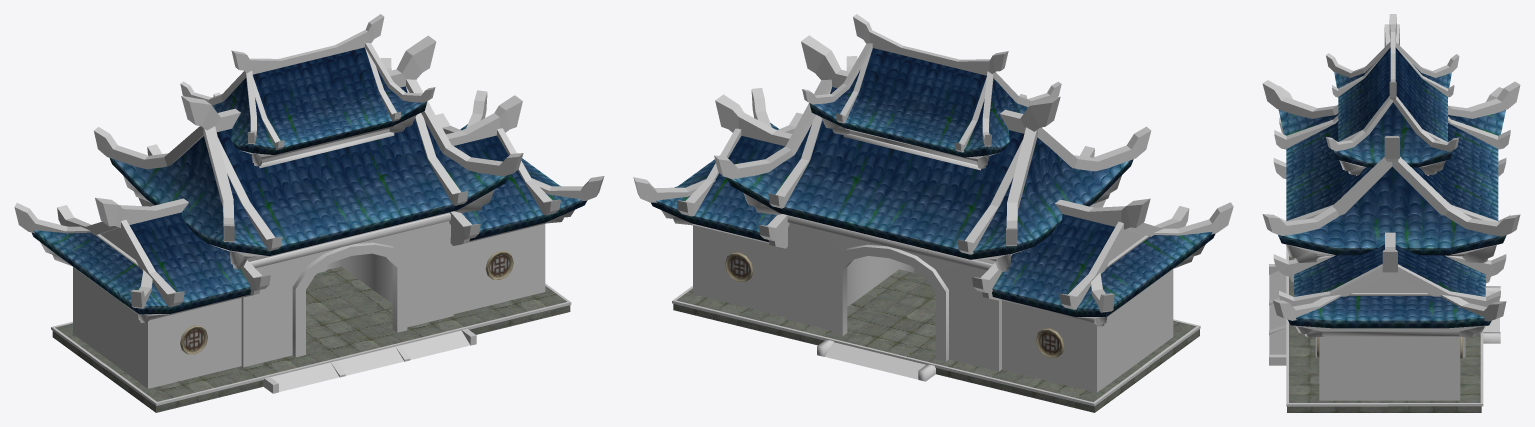
The model's file is environment_Building_luoxiaguan_001_f.FBX.
The picture shows the model from 3 angles, left to right: view 1: azimuth 30°, elevation 25°; view 2: azimuth 150°, elevation 25°; view 3: azimuth 270°, elevation 25°; orthographic projection. The views are drawn at different scales.
Parts seen in each view (by area): view 1: environment_Building_luoxiaguan_001_f01, environment_Building_luoxiaguan_001_f02, environment_Building_luoxiaguan_001_f03, environment_Building_luoxiaguan_001_f09, environment_Building_luoxiaguan_001_f08, environment_Building_luoxiaguan_001_f06, environment_Building_luoxiaguan_001_f10, environment_Building_luoxiaguan_001_f07, environment_Building_luoxiaguan_001_f04; view 2: environment_Building_luoxiaguan_001_f01, environment_Building_luoxiaguan_001_f02, environment_Building_luoxiaguan_001_f03, environment_Building_luoxiaguan_001_f09, environment_Building_luoxiaguan_001_f08, environment_Building_luoxiaguan_001_f06, environment_Building_luoxiaguan_001_f10, environment_Building_luoxiaguan_001_f07, environment_Building_luoxiaguan_001_f04; view 3: environment_Building_luoxiaguan_001_f01, environment_Building_luoxiaguan_001_f02, environment_Building_luoxiaguan_001_f03, environment_Building_luoxiaguan_001_f09, environment_Building_luoxiaguan_001_f08, environment_Building_luoxiaguan_001_f10, environment_Building_luoxiaguan_001_f05.
Part boxes in pixels (bbox=[...]): environment_Building_luoxiaguan_001_f01: bbox=[32, 47, 587, 314]; environment_Building_luoxiaguan_001_f02: bbox=[14, 14, 604, 405]; environment_Building_luoxiaguan_001_f03: bbox=[73, 221, 545, 388]; environment_Building_luoxiaguan_001_f09: bbox=[52, 266, 570, 412]; environment_Building_luoxiaguan_001_f08: bbox=[40, 115, 574, 323]; environment_Building_luoxiaguan_001_f06: bbox=[292, 242, 407, 357]; environment_Building_luoxiaguan_001_f10: bbox=[270, 330, 470, 391]; environment_Building_luoxiaguan_001_f07: bbox=[180, 251, 513, 354]; environment_Building_luoxiaguan_001_f04: bbox=[184, 255, 509, 350]; environment_Building_luoxiaguan_001_f01: bbox=[651, 48, 1215, 316]; environment_Building_luoxiaguan_001_f02: bbox=[633, 14, 1233, 406]; environment_Building_luoxiaguan_001_f03: bbox=[693, 222, 1173, 392]; environment_Building_luoxiaguan_001_f09: bbox=[673, 269, 1199, 412]; environment_Building_luoxiaguan_001_f08: bbox=[661, 117, 1205, 326]; environment_Building_luoxiaguan_001_f06: bbox=[832, 244, 948, 361]; environment_Building_luoxiaguan_001_f10: bbox=[825, 342, 925, 379]; environment_Building_luoxiaguan_001_f07: bbox=[725, 252, 1064, 357]; environment_Building_luoxiaguan_001_f04: bbox=[729, 256, 1060, 353]; environment_Building_luoxiaguan_001_f01: bbox=[1278, 47, 1506, 328]; environment_Building_luoxiaguan_001_f02: bbox=[1262, 14, 1520, 406]; environment_Building_luoxiaguan_001_f03: bbox=[1315, 336, 1465, 400]; environment_Building_luoxiaguan_001_f09: bbox=[1287, 255, 1481, 412]; environment_Building_luoxiaguan_001_f08: bbox=[1286, 161, 1496, 337]; environment_Building_luoxiaguan_001_f10: bbox=[1269, 270, 1499, 354]; environment_Building_luoxiaguan_001_f05: bbox=[1283, 160, 1499, 331].
Bounding box in the file's own units: 2000 × 1003 × 1159.
